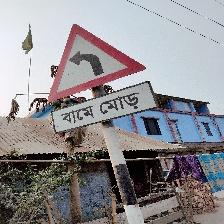Left-Turn: (43, 25, 155, 135)
